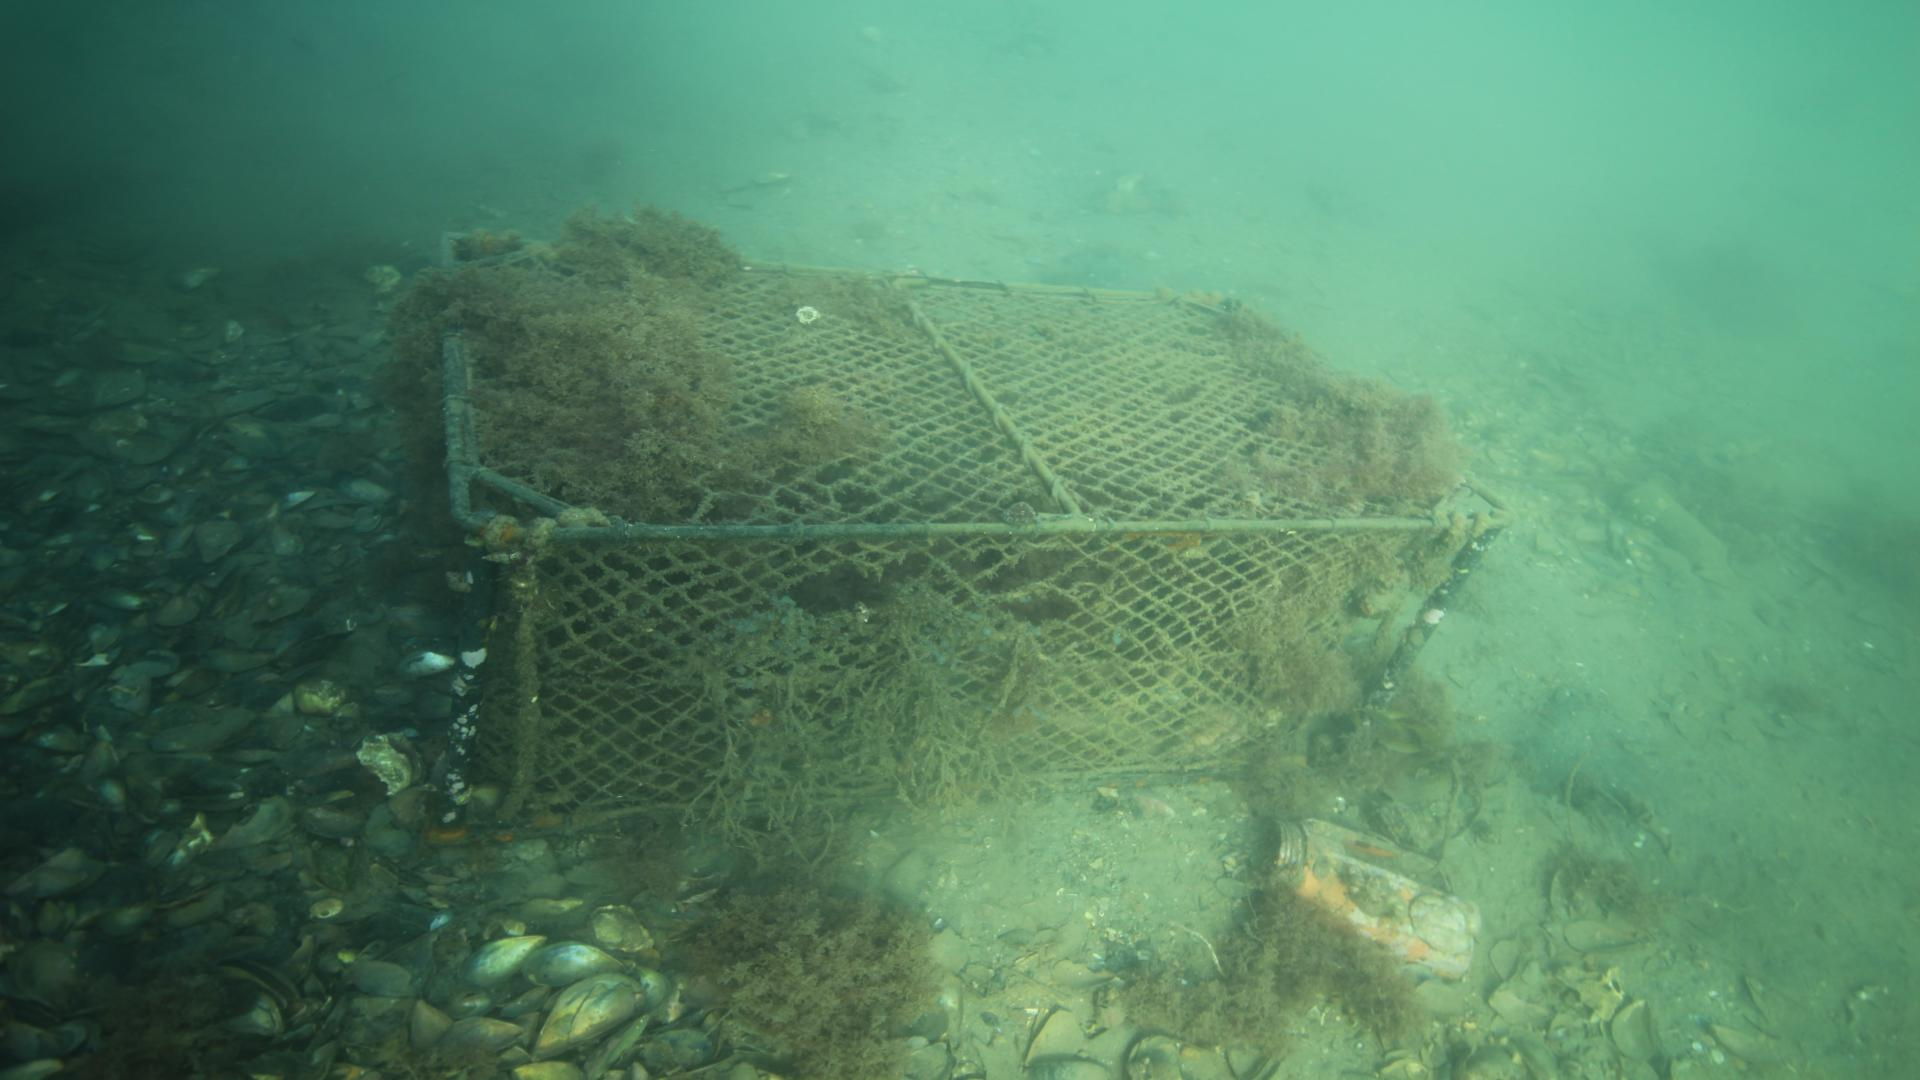rectangular fish trap: (435, 228, 1518, 839)
